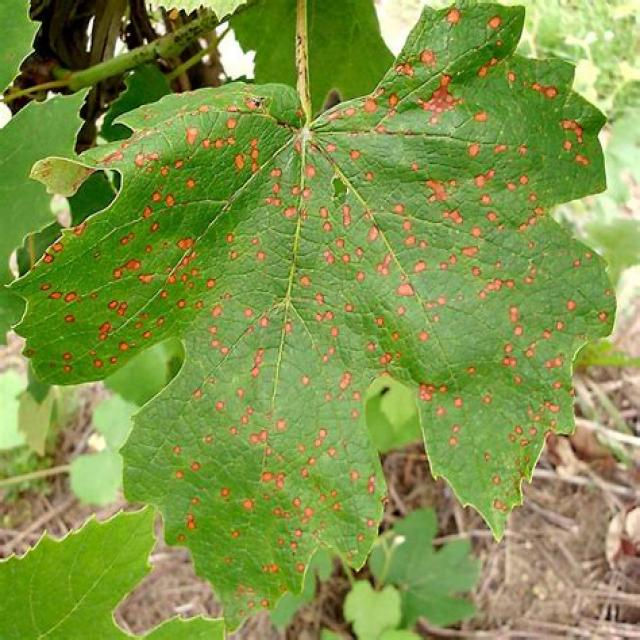blight: (324, 205, 418, 291)
